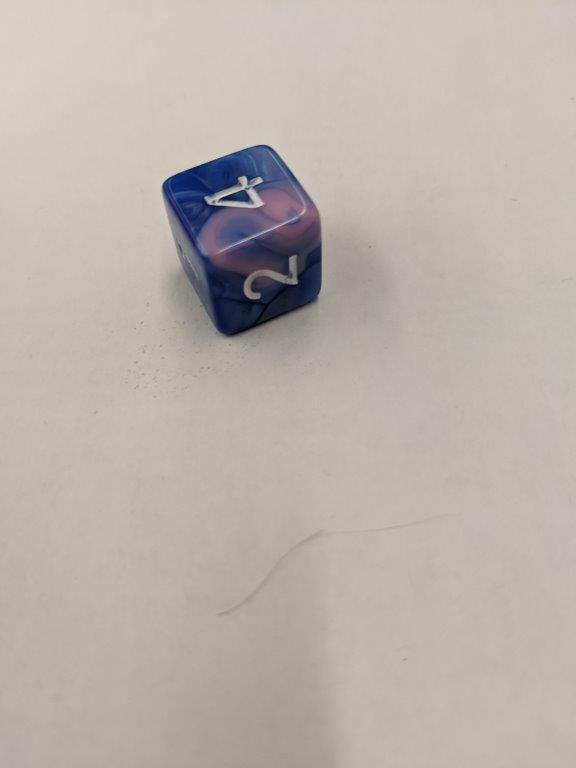d6-4: (161, 143, 325, 340)
